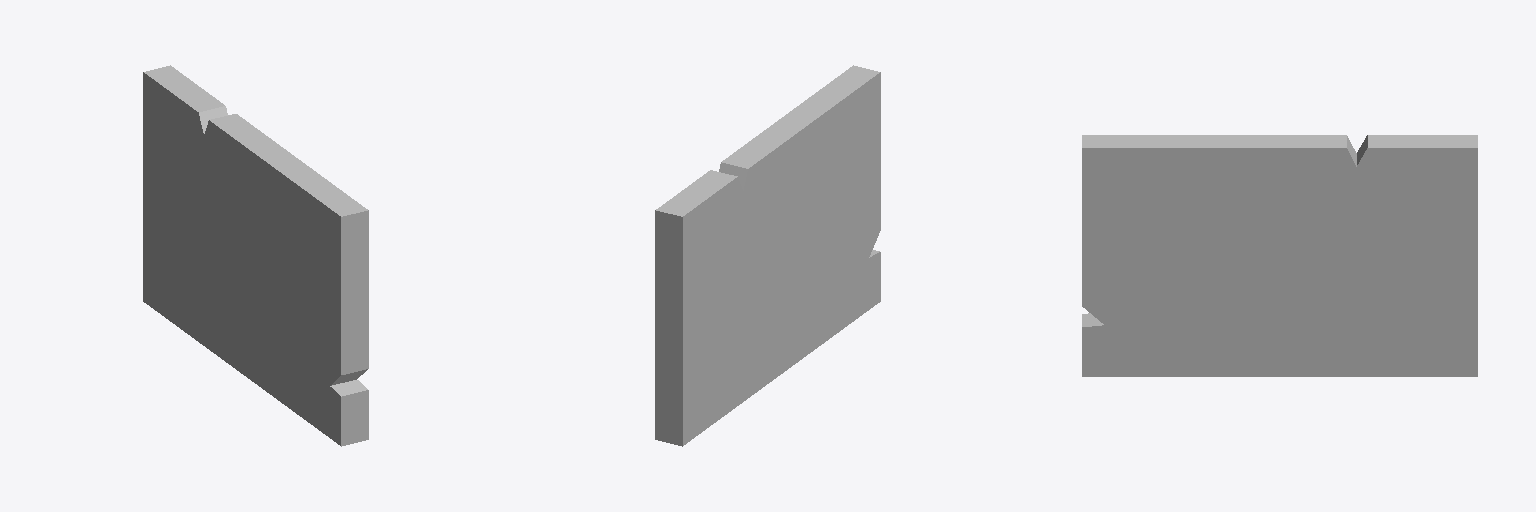
The model's file is carton.obj.
3 renders of one model, left to right at view 1: azimuth 30°, elevation 25°; view 2: azimuth 150°, elevation 25°; view 3: azimuth 270°, elevation 25°, orthographic.
Parts seen in each view (by area): view 1: Cube; view 2: Cube; view 3: Cube.
Part boxes in pixels (x1,y1,x2,y2): Cube: (143,65,368,446); Cube: (655,65,880,446); Cube: (1082,135,1477,376).
Bounding box in the file's own units: 0.4004 × 3.22 × 5.03.